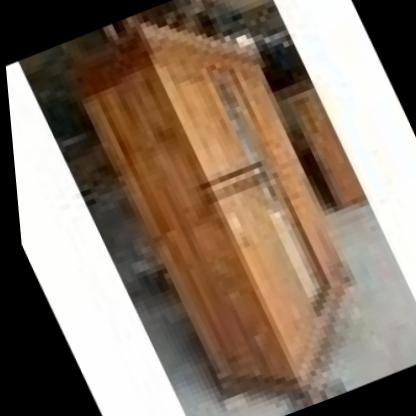Closet: (35, 0, 407, 416)
